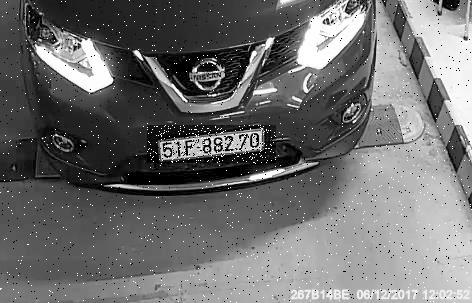License-plate: (148, 126, 277, 164)
